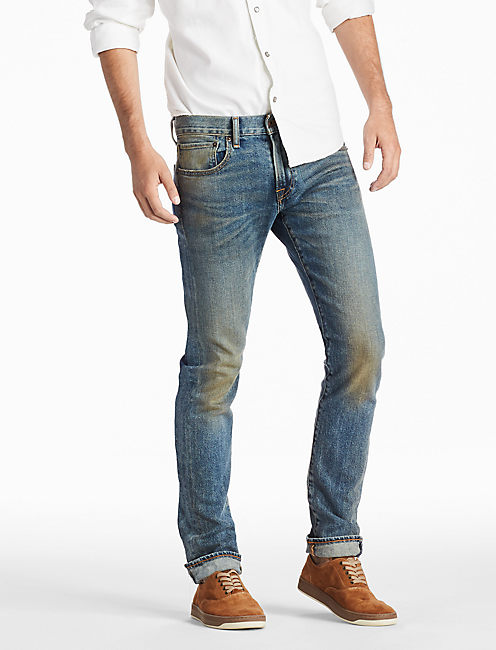Jeans: (163, 117, 376, 561)
